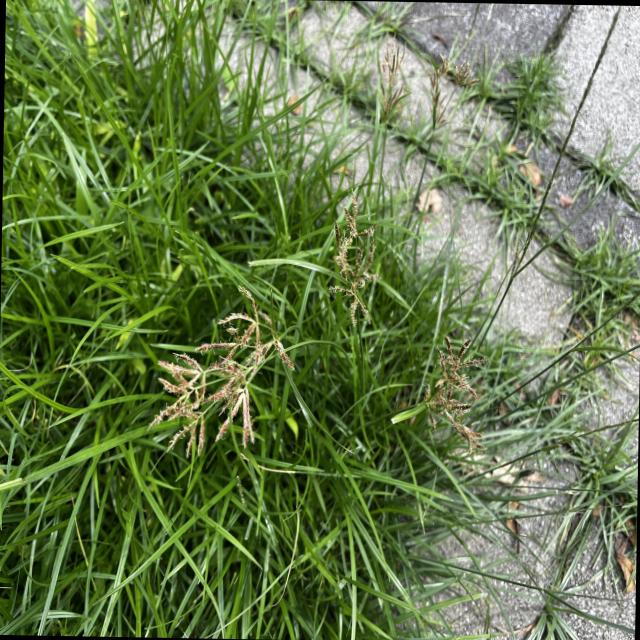cyperus: (142, 279, 300, 459), (323, 192, 383, 328), (416, 331, 478, 458), (426, 44, 480, 140), (372, 26, 410, 126)
